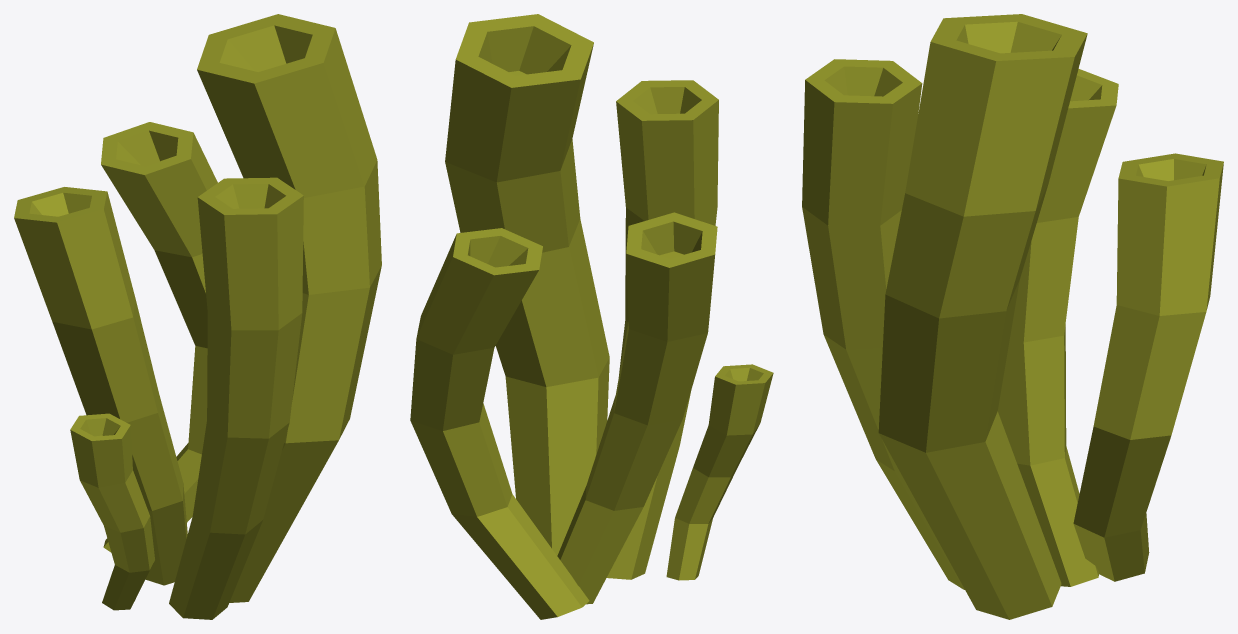
Rendered from Coral_24.fbx.
The picture shows the model from 3 angles, left to right: view 1: azimuth 30°, elevation 25°; view 2: azimuth 150°, elevation 25°; view 3: azimuth 270°, elevation 25°; orthographic projection. The views are drawn at different scales.
Visible parts, largest first — view 1: Coral_24; view 2: Coral_24; view 3: Coral_24.
Part boxes in pixels (x1,y1,x2,y2): Coral_24: (14,14,381,619); Coral_24: (410,14,773,619); Coral_24: (802,14,1223,619).
Bounding box in the file's own units: 48.86 × 80.63 × 51.34.
